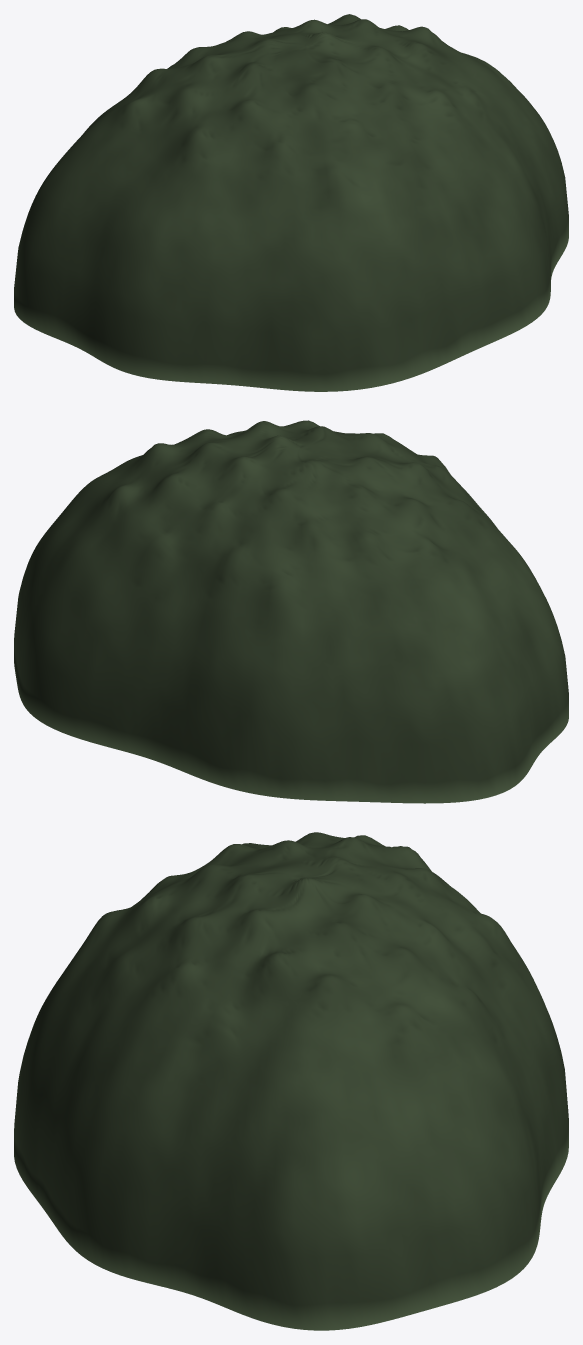
The model's file is massive-stromatoporoid-v2.glb.
3 renders of one model, top to bottom at view 1: azimuth 30°, elevation 25°; view 2: azimuth 150°, elevation 25°; view 3: azimuth 270°, elevation 25°, orthographic. The views are drawn at different scales.
Parts seen in each view (by area): view 1: massive-stromatoporoid-v2; view 2: massive-stromatoporoid-v2; view 3: massive-stromatoporoid-v2.
Boxes of the visible parts, x1,y1,x2,y2 form: massive-stromatoporoid-v2: (14,14,568,391); massive-stromatoporoid-v2: (14,420,568,803); massive-stromatoporoid-v2: (14,832,568,1330).
Bounding box in the file's own units: 1.19 × 0.5635 × 0.9248.
